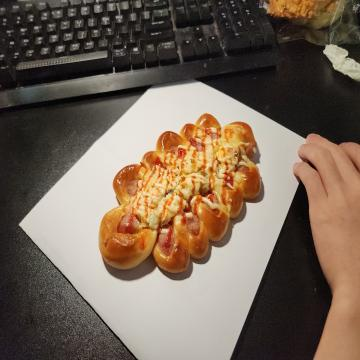pizza_bread: (99, 114, 264, 274)
